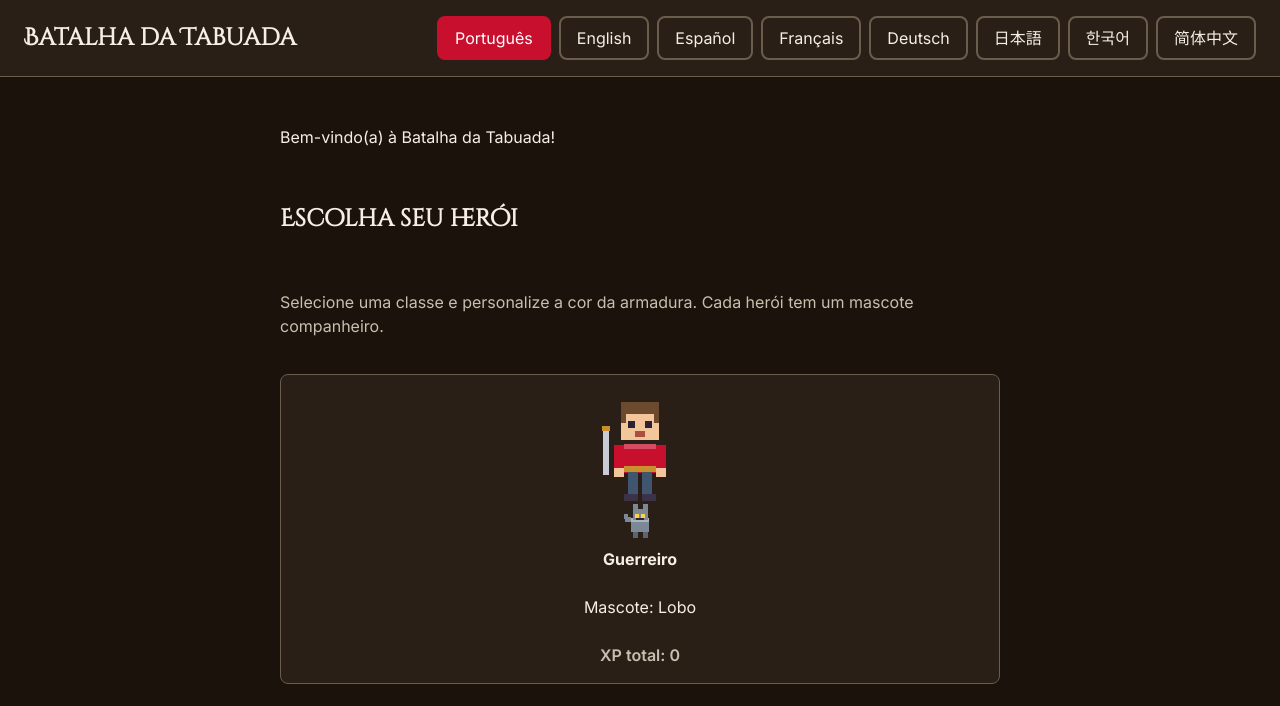
Scenario: App › troca o idioma para en-US e marca o botão como pressionado
The image size is (1280, 706).
Step 1. Click the button "English" → (604, 38), box x1=559 y1=16 x2=649 y2=60
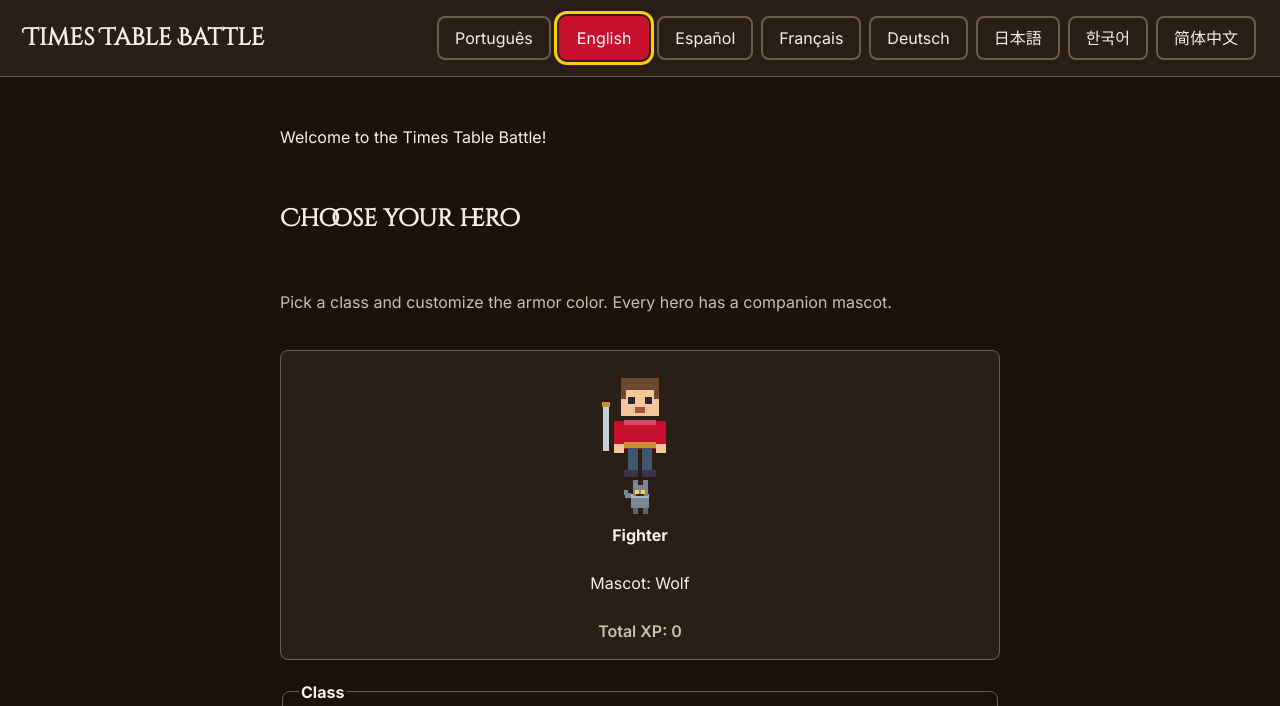
Expected: the heading "Times Table Battle" is shown, x1=24 y1=24 x2=264 y2=52
